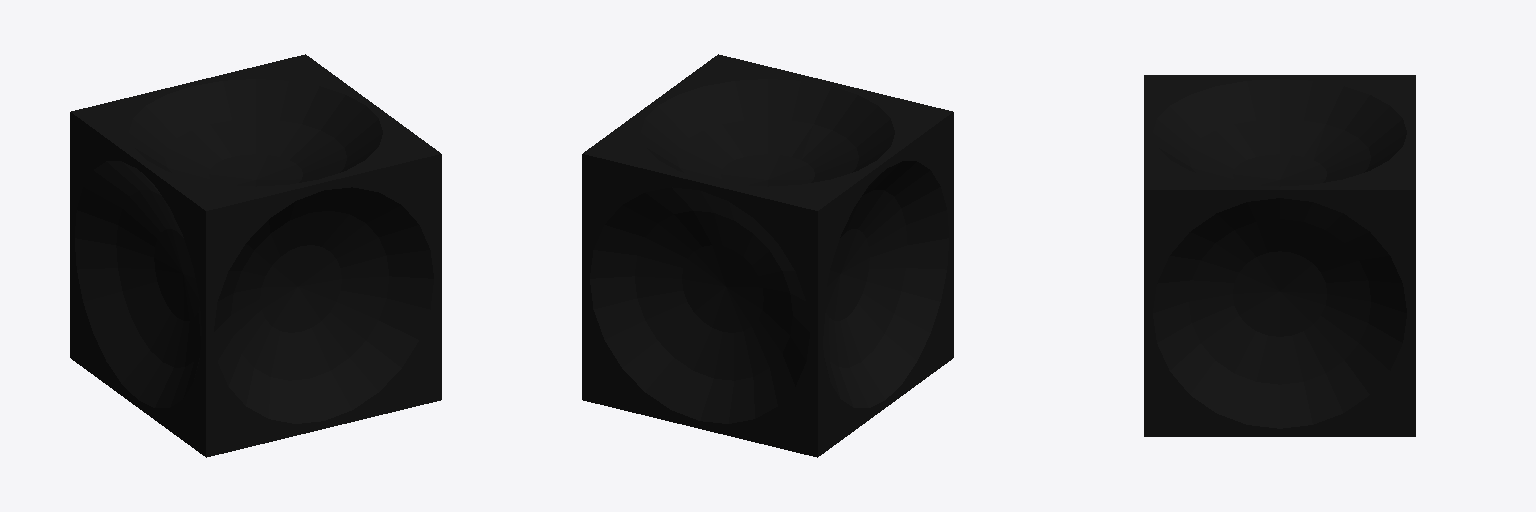
The model's file is Connector.obj.
3 renders of one model, left to right at view 1: azimuth 30°, elevation 25°; view 2: azimuth 150°, elevation 25°; view 3: azimuth 270°, elevation 25°, orthographic.
Parts seen in each view (by area): view 1: Connector1; view 2: Connector1; view 3: Connector1.
Boxes of the visible parts, <box> form: Connector1: <box>70,54,441,457</box>; Connector1: <box>582,54,953,457</box>; Connector1: <box>1144,75,1415,436</box>.
Bounding box in the file's own units: 0.4 × 0.4 × 0.4.